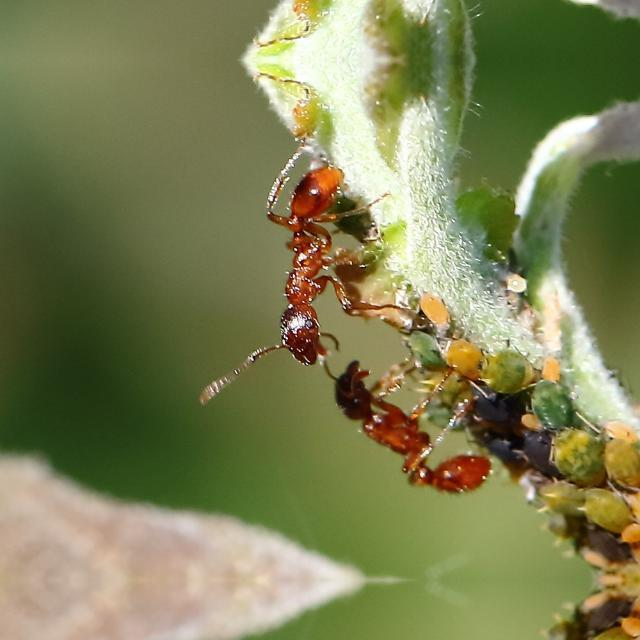Myrmica: (300, 334, 492, 510), (245, 141, 368, 379)
